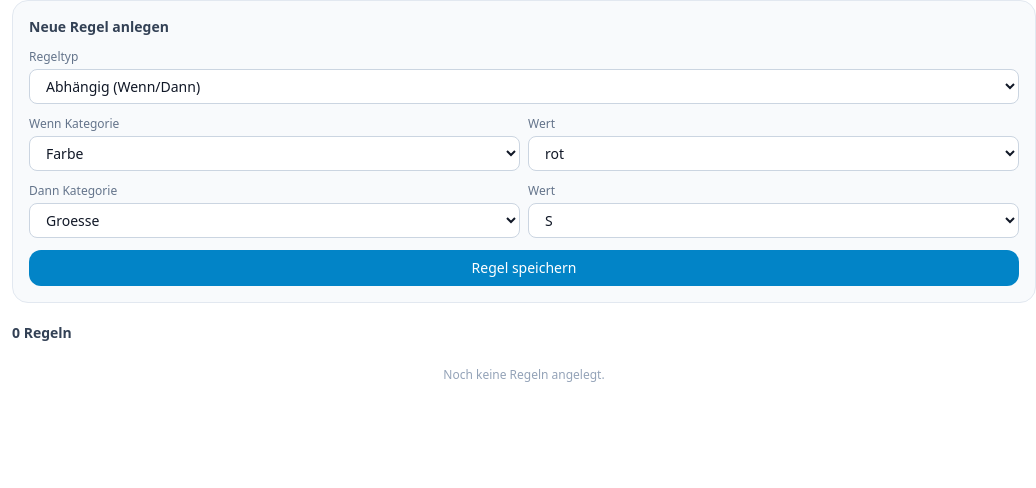
RulesPanel - REQ-3003 Regeleditor (Formular + direktes Speichern) › speichert eine neue Regel direkt ueber den Editor und zeigt sie danach in der Regelanzeige
Check: the heading "Neue Regel anlegen" is shown, box [29, 17, 169, 36]
Select "gruen" in the 3rd dropdown at [774, 154], box [528, 136, 1019, 171]
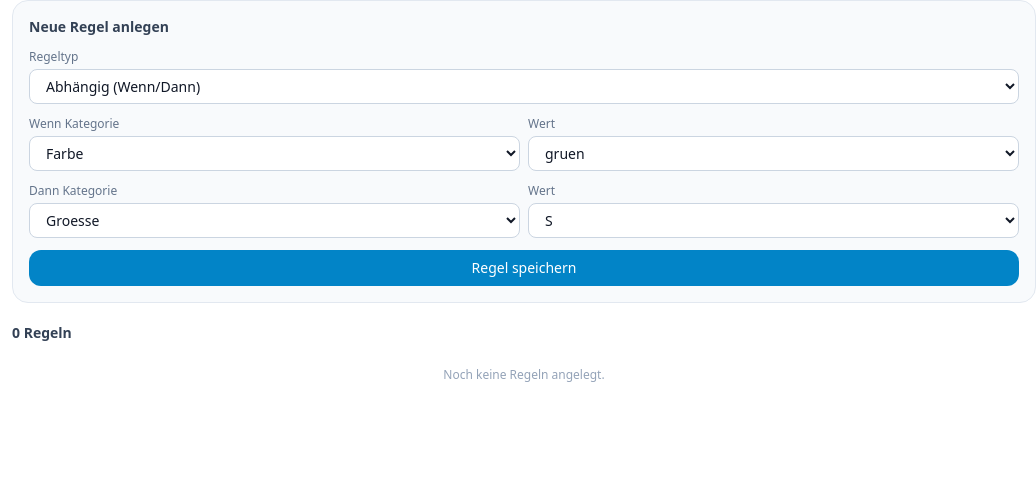
Select "M" in the 5th dropdown at [774, 220], box [528, 203, 1019, 238]
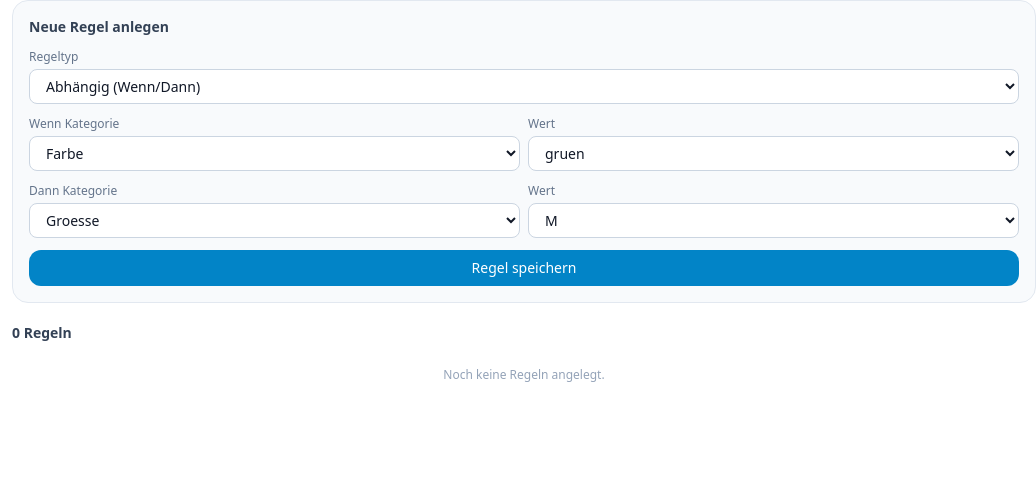
Click the button "Regel speichern" at [524, 268], box [29, 250, 1019, 286]
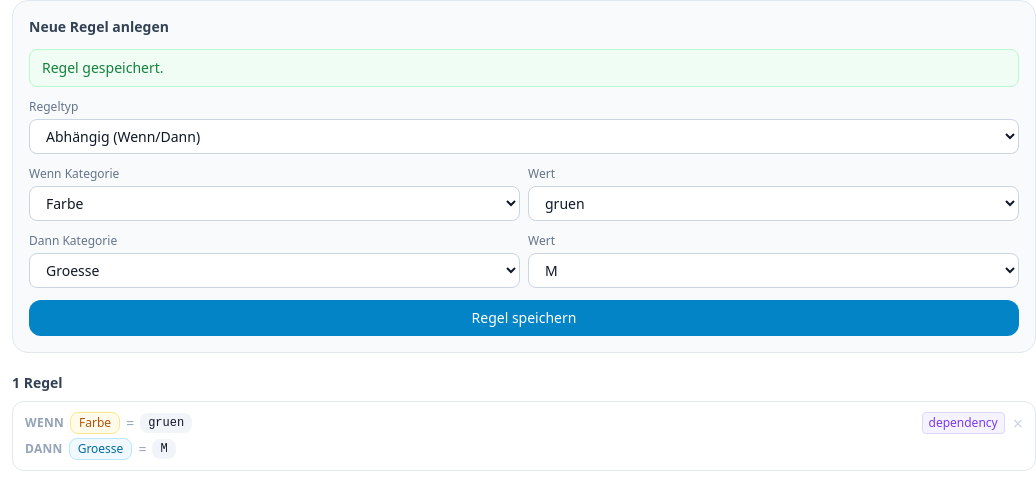
Check: the text "Regel gespeichert." is shown, box [29, 49, 1019, 87]
Check: the heading "1 Regel" is shown, box [12, 373, 63, 392]
Check: the text "gruen" is shown, box [140, 413, 192, 433]
